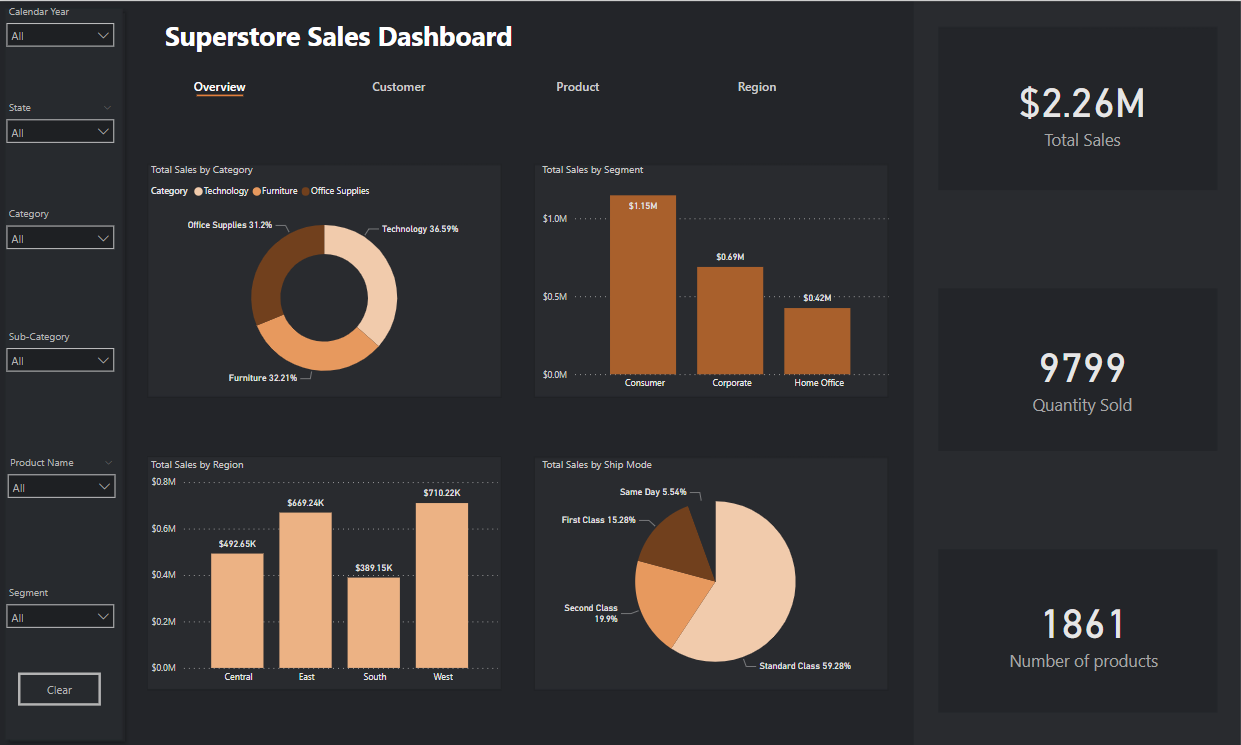

Layout of this report page (visuals, bound fields, positions):
{"tool":"powerbi","page":{"name":"Overview","canvas":[1500,900],"ordinal":0},"visuals":[{"type":"textbox","box":[196.7,16.7,508.3,228.3],"z":0},{"type":"pageNavigator","box":[164.2,80.5,856.2,49.9],"z":1000},{"type":"card","fields":{"Values":["FACT-sales.Total Sales"]},"box":[1131.7,31.7,351.7,198.3],"z":2000},{"type":"card","fields":{"Values":["DIM-products.Number of products"]},"box":[1133.3,660,351.7,198.3],"z":3000},{"type":"card","fields":{"Values":["DIM-orders.Quantity Sold"]},"box":[1131.7,351.7,351.7,198.3],"z":4000},{"type":"shape","box":[180,550,428.3,281.7],"z":5000},{"type":"donutChart","fields":{"Y":["FACT-sales.Total Sales"],"Category":["DIM-products.Category","DIM-products.Sub-Category"]},"box":[180,196.7,428.3,283.3],"z":6000},{"type":"pieChart","fields":{"Y":["FACT-sales.Total Sales"],"Category":["DIM-orders.Ship Mode"]},"box":[651.7,551.7,428.3,283.3],"z":7000},{"type":"columnChart","fields":{"Category":["DIM-region.Region","DIM-region.Country","DIM-region.State","DIM-region.City"],"Y":["FACT-sales.Total Sales"]},"box":[180,551.7,428.3,281.7],"z":8000},{"type":"columnChart","fields":{"Category":["DIM-customers.Segment"],"Y":["FACT-sales.Total Sales"]},"box":[651.7,196.7,428.3,283.3],"z":9000},{"type":"shape","box":[239.8,35.4,56.3,160.9],"z":10000},{"type":"slicer","fields":{"Values":["Date.Calendar Year"]},"box":[0,0,149.7,115.9],"z":11000},{"type":"slicer","fields":{"Values":["DIM-region.State"]},"box":[0,115.9,149.7,115.9],"z":12000},{"type":"slicer","fields":{"Values":["DIM-products.Category"]},"box":[0,244.6,149.7,115.9],"z":13000},{"type":"slicer","fields":{"Values":["DIM-products.Sub-Category"]},"box":[0,392.7,149.7,115.9],"z":14000},{"type":"slicer","fields":{"Values":["DIM-products.Product Name"]},"box":[1.6,544,149.7,115.9],"z":15000},{"type":"slicer","fields":{"Values":["DIM-customers.Segment"]},"box":[0,701.7,149.7,115.9],"z":16000},{"type":"actionButton","box":[24,810.9,99.9,39.9],"z":17000}]}

Visuals, with their boxes in screenshot pixels (x1, y1, x2, y2), scaled from the page's 1500x900 canvas onto the 1241x745 screenshot:
textbox: pyautogui.locateOnScreen(163, 14, 583, 203)
pageNavigator: pyautogui.locateOnScreen(136, 67, 844, 108)
card - FACT-sales.Total Sales: pyautogui.locateOnScreen(936, 26, 1227, 190)
card - DIM-products.Number of products: pyautogui.locateOnScreen(938, 546, 1229, 710)
card - DIM-orders.Quantity Sold: pyautogui.locateOnScreen(936, 291, 1227, 455)
shape: pyautogui.locateOnScreen(149, 455, 503, 688)
donutChart - FACT-sales.Total Sales x DIM-products.Category: pyautogui.locateOnScreen(149, 163, 503, 397)
pieChart - FACT-sales.Total Sales x DIM-orders.Ship Mode: pyautogui.locateOnScreen(539, 457, 894, 691)
columnChart - DIM-region.Region x DIM-region.Country: pyautogui.locateOnScreen(149, 457, 503, 690)
columnChart - DIM-customers.Segment x FACT-sales.Total Sales: pyautogui.locateOnScreen(539, 163, 894, 397)
shape: pyautogui.locateOnScreen(198, 29, 245, 162)
slicer - Date.Calendar Year: pyautogui.locateOnScreen(0, 0, 124, 96)
slicer - DIM-region.State: pyautogui.locateOnScreen(0, 96, 124, 192)
slicer - DIM-products.Category: pyautogui.locateOnScreen(0, 202, 124, 298)
slicer - DIM-products.Sub-Category: pyautogui.locateOnScreen(0, 325, 124, 421)
slicer - DIM-products.Product Name: pyautogui.locateOnScreen(1, 450, 125, 546)
slicer - DIM-customers.Segment: pyautogui.locateOnScreen(0, 581, 124, 677)
actionButton: pyautogui.locateOnScreen(20, 671, 103, 704)
